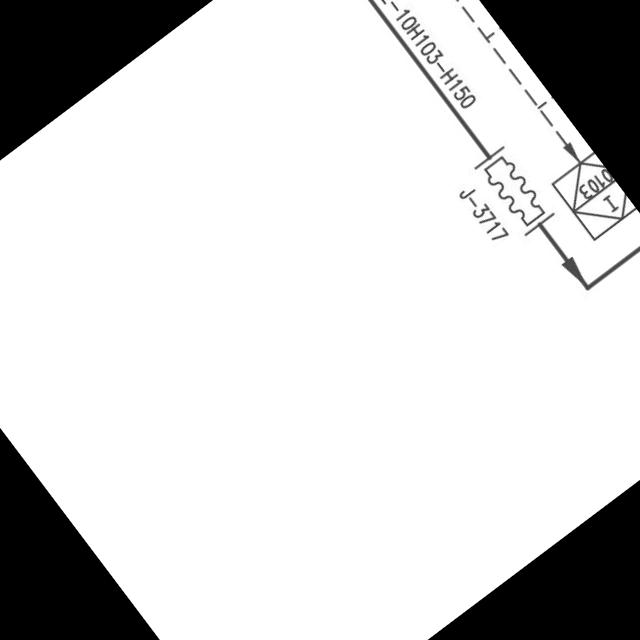EJ: (468, 139, 564, 246)
